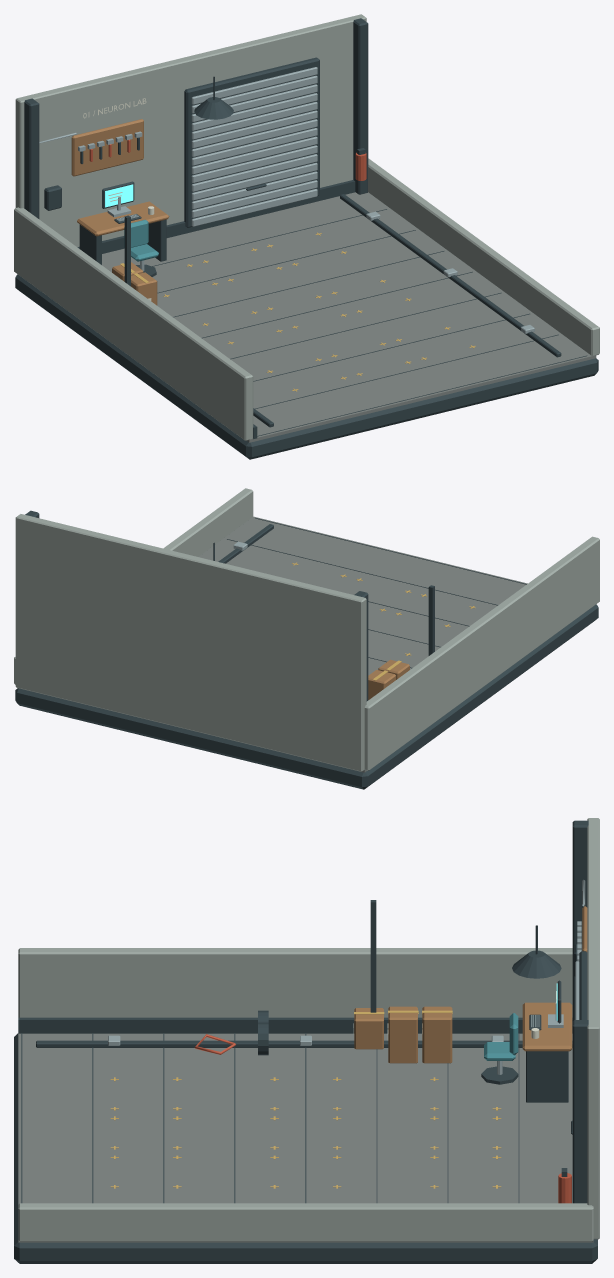
File: garage.glb
3 views of the same model, one above another, from view 1: azimuth 30°, elevation 25°; view 2: azimuth 150°, elevation 25°; view 3: azimuth 270°, elevation 25° (orthographic). The views are drawn at different scales.
Parts seen in each view (by area): view 1: 01 / mineral floor, 02 / painted plaster, 03 / charcoal steel, 04 / brushed alloy, 05 / warm oak, 08 / glass, 11 / safety paint; view 2: 02 / painted plaster, 01 / mineral floor, 03 / charcoal steel, 05 / warm oak; view 3: 01 / mineral floor, 02 / painted plaster, 03 / charcoal steel, 05 / warm oak, 04 / brushed alloy, 11 / safety paint, 08 / glass, 09 / vermilion.
Boxes of the visible parts, x1,y1,x2,y2 form: 01 / mineral floor: [102, 192, 596, 442]; 02 / painted plaster: [14, 14, 599, 440]; 03 / charcoal steel: [15, 18, 598, 459]; 04 / brushed alloy: [39, 67, 534, 333]; 05 / warm oak: [71, 119, 169, 305]; 08 / glass: [124, 219, 158, 261]; 11 / safety paint: [120, 232, 475, 391]; 02 / painted plaster: [14, 488, 599, 771]; 01 / mineral floor: [19, 516, 527, 772]; 03 / charcoal steel: [15, 510, 598, 789]; 05 / warm oak: [368, 659, 409, 699]; 01 / mineral floor: [18, 1033, 593, 1242]; 02 / painted plaster: [18, 818, 599, 1241]; 03 / charcoal steel: [14, 820, 597, 1263]; 05 / warm oak: [354, 906, 587, 1063]; 04 / brushed alloy: [108, 879, 585, 1074]; 11 / safety paint: [110, 1010, 501, 1188]; 08 / glass: [484, 1013, 518, 1060]; 09 / vermilion: [194, 1034, 571, 1203].
Size of the model in its own units: 7.18 by 3.68 by 8.25.
